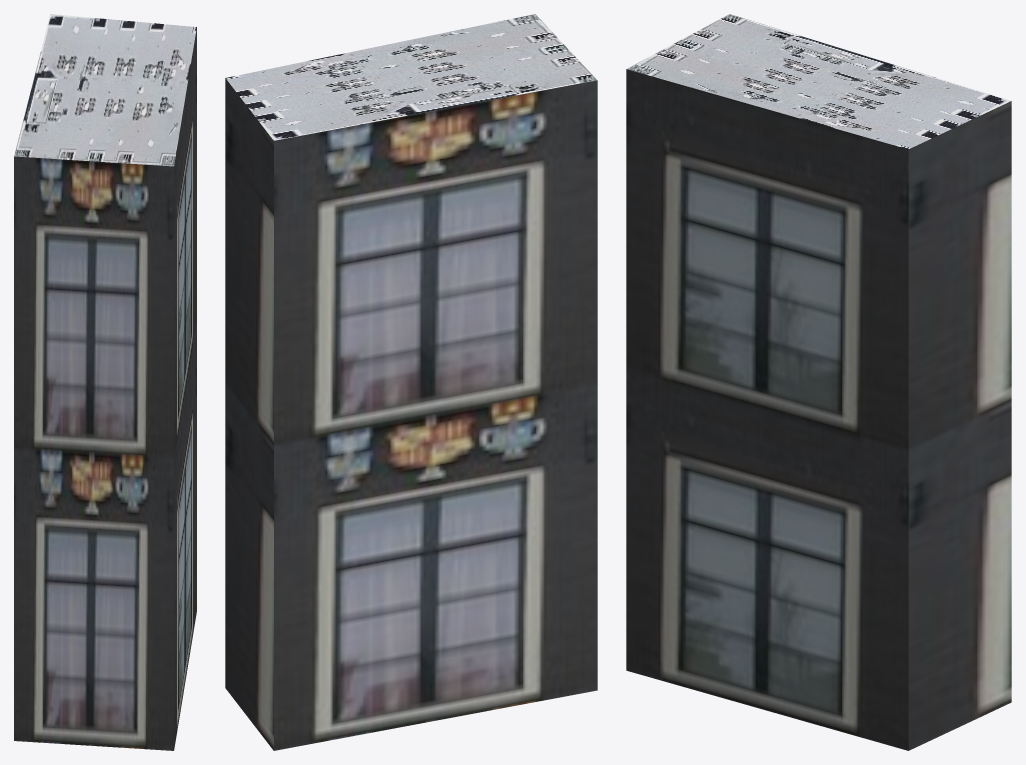
Rendered from ResTex__4612.fbx.
The picture shows the model from 3 angles, left to right: view 1: azimuth 30°, elevation 25°; view 2: azimuth 150°, elevation 25°; view 3: azimuth 270°, elevation 25°; orthographic projection. The views are drawn at different scales.
Parts seen in each view (by area): view 1: CityEngineMaterial_22_m, CityEngineMaterial_4_m; view 2: CityEngineMaterial_22_m, CityEngineMaterial_4_m; view 3: CityEngineMaterial_22_m, CityEngineMaterial_4_m.
Part boxes in pixels (x1,y1,x2,y2): CityEngineMaterial_22_m: [14, 28, 196, 750]; CityEngineMaterial_4_m: [14, 14, 196, 166]; CityEngineMaterial_22_m: [225, 78, 597, 750]; CityEngineMaterial_4_m: [225, 14, 596, 140]; CityEngineMaterial_22_m: [626, 69, 1011, 750]; CityEngineMaterial_4_m: [627, 14, 1010, 149].
Bounding box in the file's own units: 2.9 × 6 × 3.48.
Materials: 2 (2 with a texture image).
